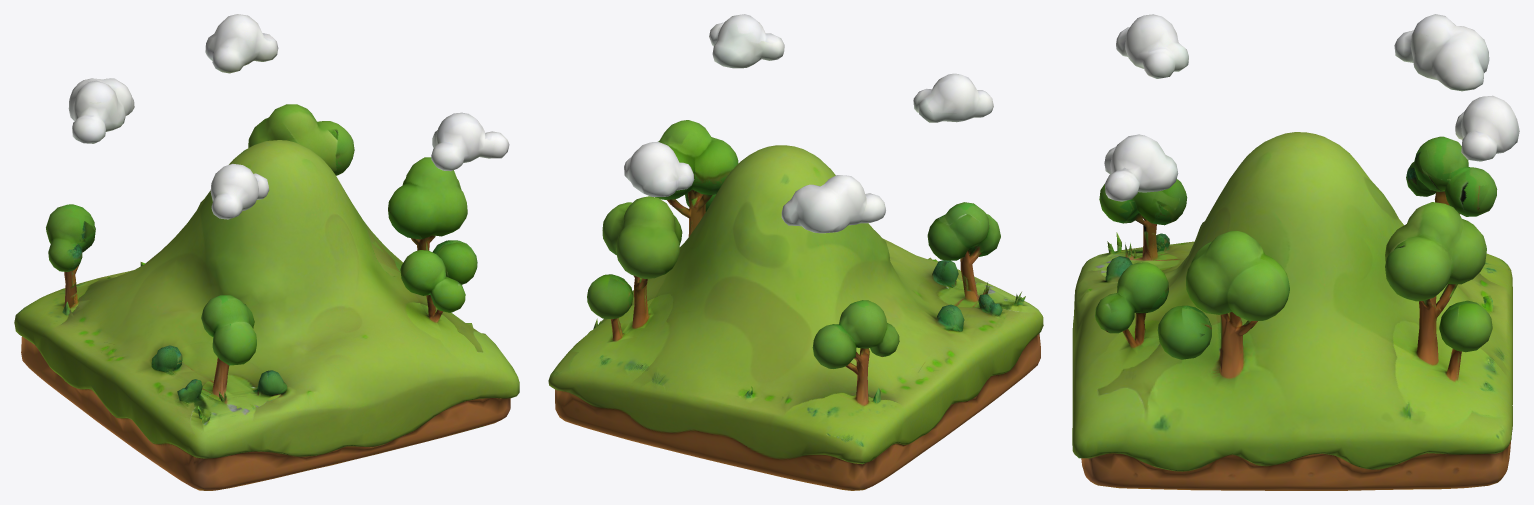
The model's file is Hill.glb.
3 views of the same model, side by side, from view 1: azimuth 30°, elevation 25°; view 2: azimuth 150°, elevation 25°; view 3: azimuth 270°, elevation 25° (orthographic). The views are drawn at different scales.
Bounding box in the file's own units: 1.99 × 1.7 × 2.
Materials: 1 (1 with a texture image).
